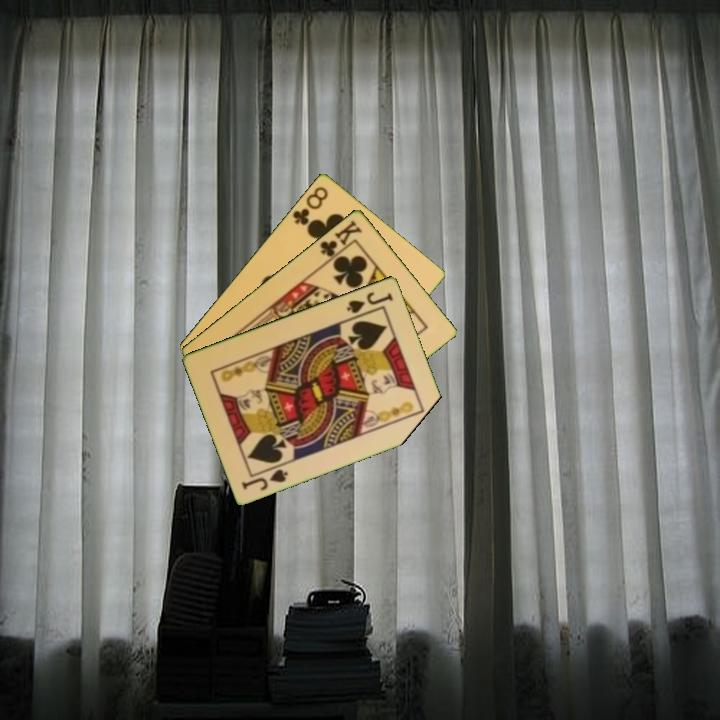8c: (289, 182, 331, 230)
Js: (343, 288, 396, 316), (238, 465, 291, 493)
Kc: (316, 216, 365, 265)
